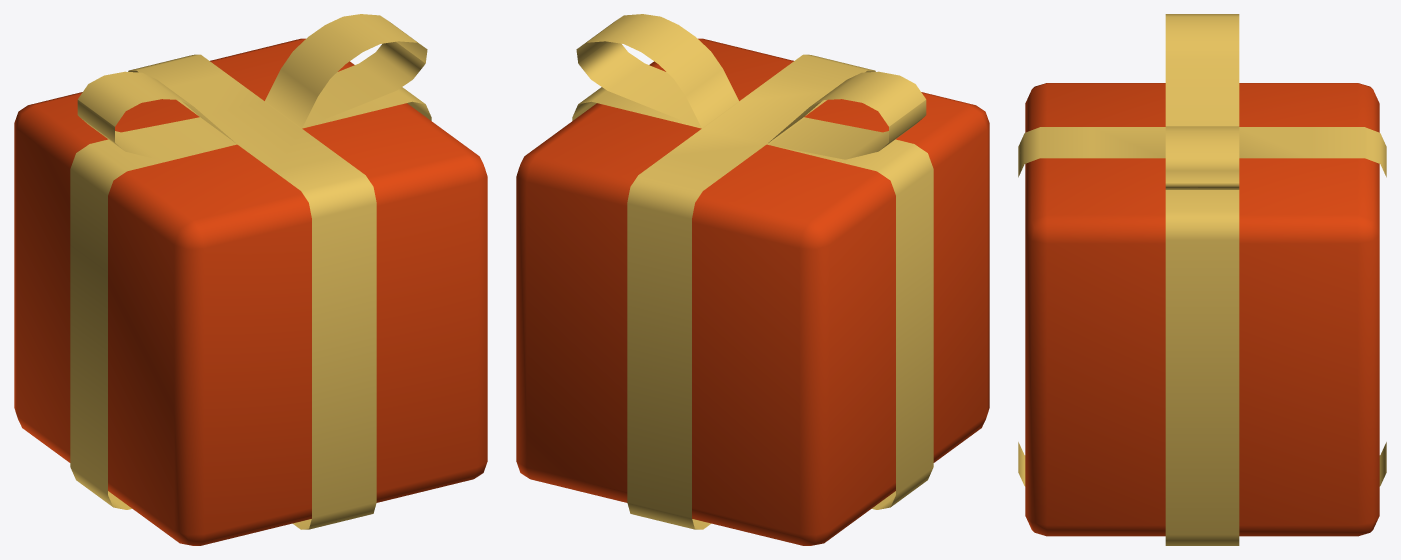
Rendered from christmasGiftVisual.glb.
The picture shows the model from 3 angles, left to right: view 1: azimuth 30°, elevation 25°; view 2: azimuth 150°, elevation 25°; view 3: azimuth 270°, elevation 25°; orthographic projection.
Visible parts, largest first — view 1: gift; view 2: gift; view 3: gift.
Part boxes in pixels (bbox=[...]): gift: bbox=[14, 14, 487, 545]; gift: bbox=[516, 14, 989, 545]; gift: bbox=[1018, 14, 1386, 545].
Size of the model in its own units: 1.99 by 2.38 by 1.99.
